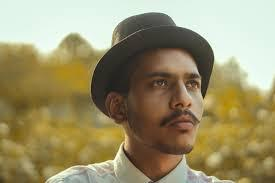cap: (91, 9, 215, 104)
